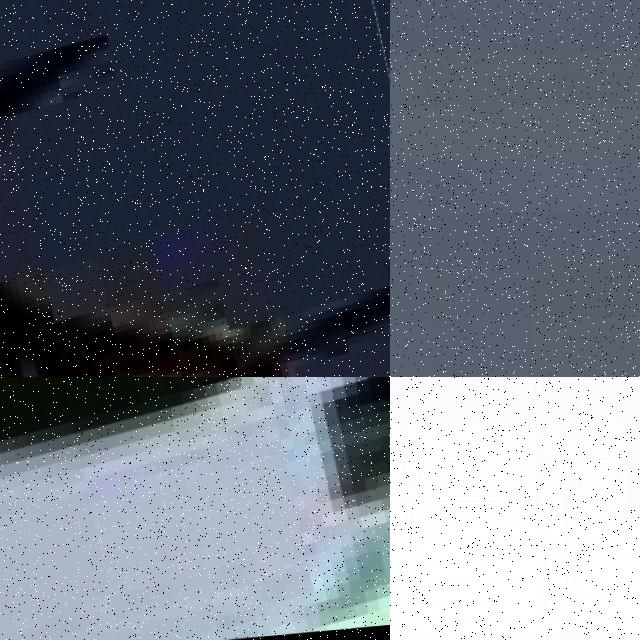drone: (0, 0, 390, 377), (0, 377, 390, 640)
